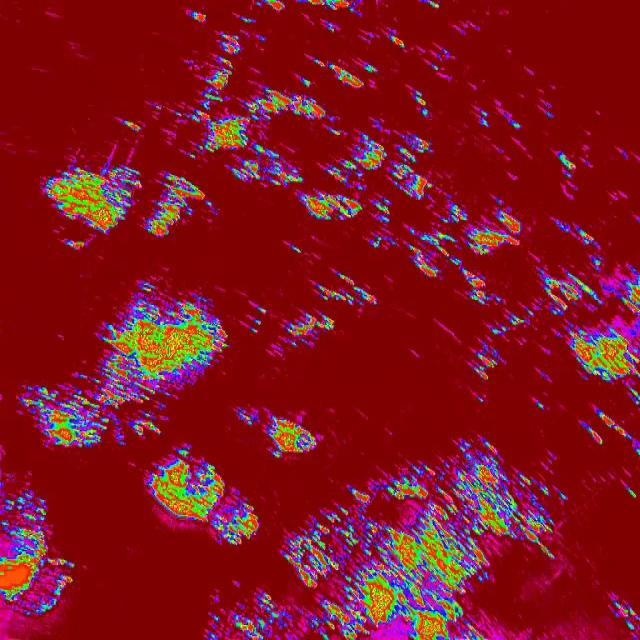fire: (18, 280, 229, 446), (367, 437, 511, 640), (283, 482, 366, 640), (147, 444, 258, 544), (168, 33, 249, 152), (0, 488, 76, 614), (38, 162, 141, 236), (567, 322, 640, 400), (510, 469, 558, 563), (144, 170, 205, 238), (322, 128, 387, 188), (536, 263, 600, 317), (391, 132, 437, 199), (407, 222, 459, 280), (467, 208, 524, 260), (250, 88, 330, 124), (230, 587, 284, 640), (230, 152, 306, 187), (264, 412, 318, 461), (581, 407, 640, 451), (316, 270, 378, 310), (299, 190, 362, 224), (286, 310, 338, 346), (602, 589, 640, 636), (618, 257, 640, 314), (460, 264, 489, 306), (330, 61, 366, 90), (474, 343, 500, 383), (488, 313, 526, 336), (303, 0, 364, 14), (427, 50, 451, 76), (435, 203, 466, 222), (555, 150, 577, 175), (250, 306, 268, 336), (204, 611, 222, 640), (576, 226, 598, 248), (374, 198, 393, 222), (121, 117, 142, 137), (413, 90, 428, 118), (236, 409, 258, 426), (478, 108, 492, 132), (266, 0, 288, 14), (190, 9, 208, 26), (387, 32, 406, 48), (64, 238, 84, 252), (239, 12, 255, 28), (556, 220, 574, 234), (368, 235, 383, 251), (386, 235, 402, 250), (541, 103, 555, 119), (422, 0, 442, 11), (366, 61, 378, 79), (289, 242, 304, 256), (622, 485, 636, 500), (492, 294, 506, 308), (508, 118, 522, 132), (314, 58, 328, 72), (325, 21, 336, 33), (300, 77, 312, 87), (558, 488, 566, 502), (526, 309, 536, 320), (475, 396, 486, 406), (534, 400, 544, 410), (256, 34, 268, 42), (154, 101, 162, 113), (206, 200, 215, 209), (189, 151, 198, 160)
